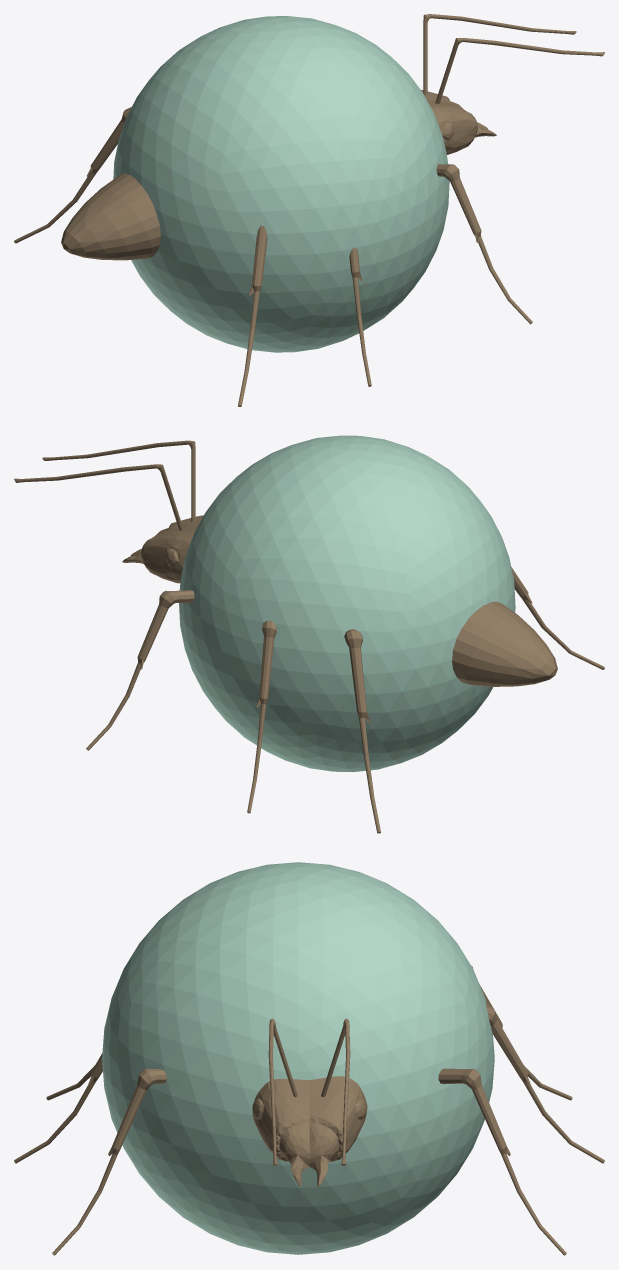
File: ant_black_sphere.dae
3 views of the same model, one above another, from view 1: azimuth 30°, elevation 25°; view 2: azimuth 150°, elevation 25°; view 3: azimuth 270°, elevation 25° (orthographic). The views are drawn at different scales.
Visible parts, largest first — view 1: Icosphere, ant_blk; view 2: Icosphere, ant_blk; view 3: Icosphere, ant_blk.
Part boxes in pixels (x1,y1,x2,y2): Icosphere: (113,16,449,352); ant_blk: (14,14,604,406); Icosphere: (179,435,515,772); ant_blk: (14,440,604,833); Icosphere: (102,862,494,1254); ant_blk: (14,966,604,1255).
Size of the model in its own units: 0.2374 by 0.1979 by 0.1315.
